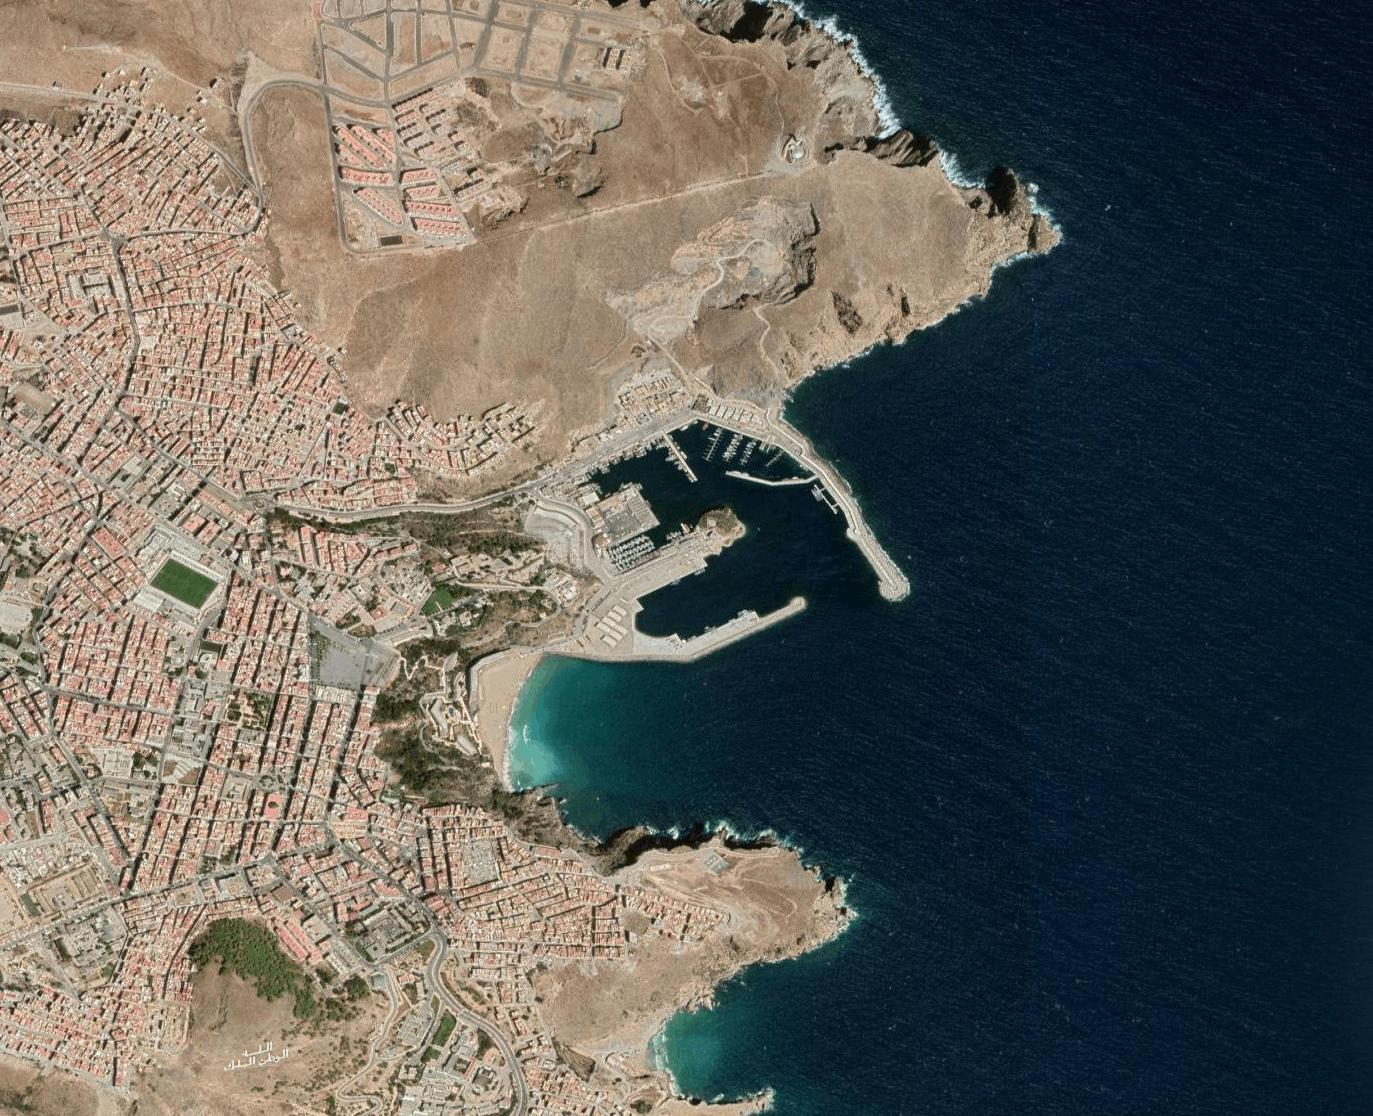harbor: (538, 381, 915, 679)
